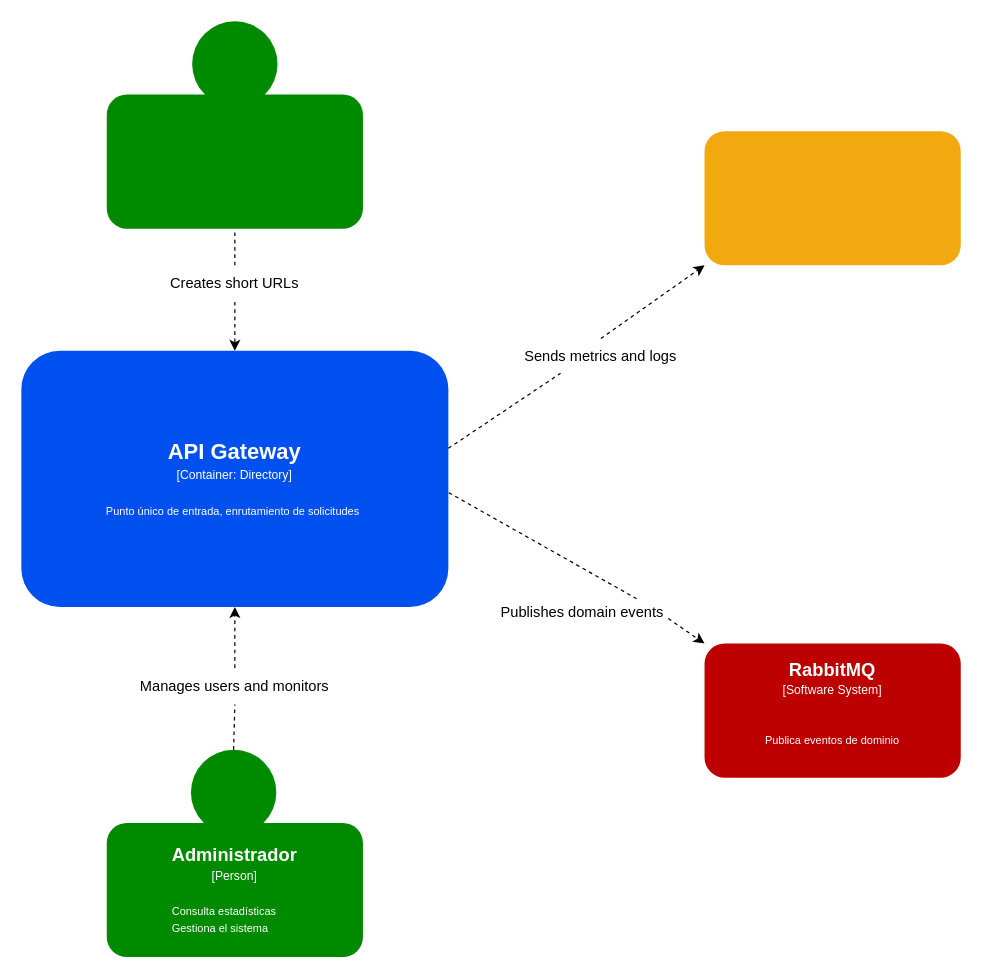
Some shapes in this 981 by 977 pixel diagram are drawn without their labels. The centre of each missing label's shape, as x and y in pixels:
Monitoring [Software System] Envía registros y métricas: (832,198)
Usuario [Person] Crea URLs Consulta URLs Usa URLs cortas: (234,161)
